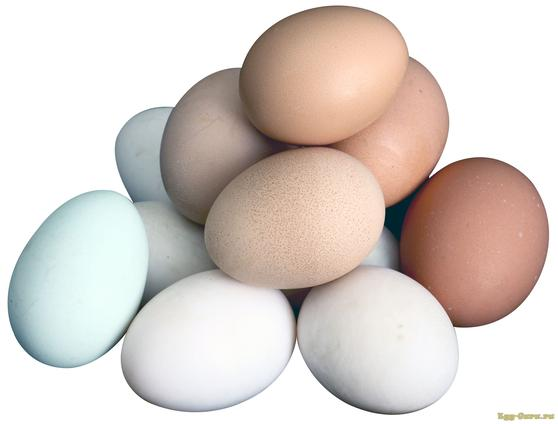egg: (393, 136, 550, 333), (192, 142, 390, 296), (293, 260, 468, 422), (114, 269, 299, 419), (5, 189, 151, 372), (233, 1, 412, 147)
